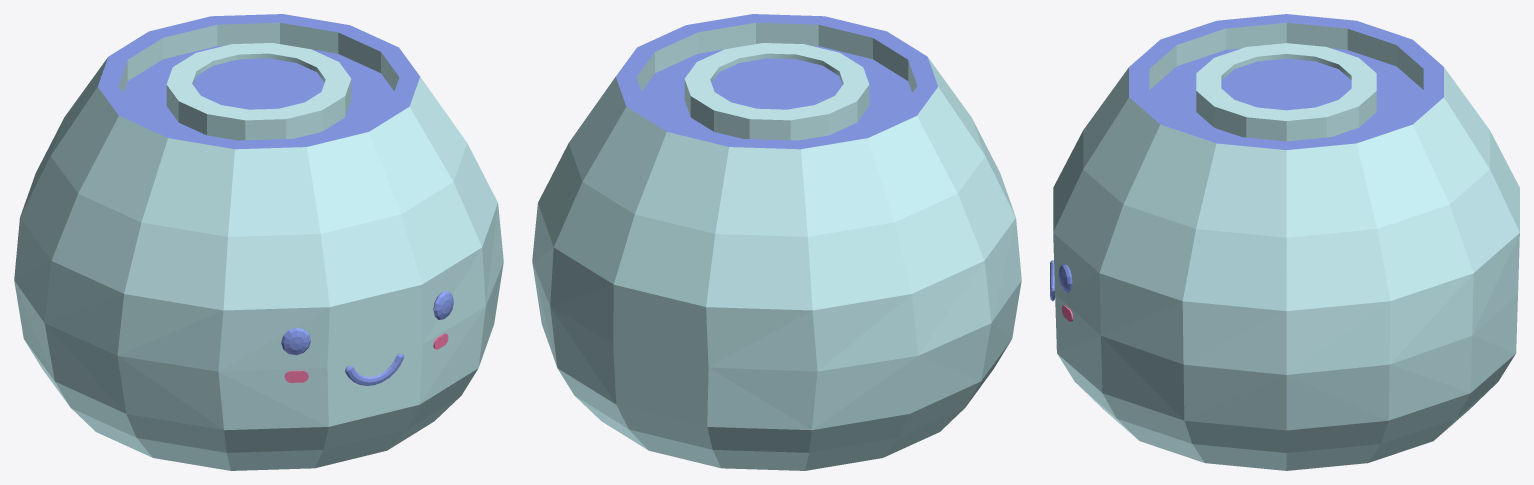
File: CH_Air.glb
3 renders of one model, left to right at view 1: azimuth 30°, elevation 25°; view 2: azimuth 150°, elevation 25°; view 3: azimuth 270°, elevation 25°, orthographic.
Visible parts, largest first — view 1: CH_Air; view 2: CH_Air; view 3: CH_Air.
Boxes of the visible parts, left/top/right/bottom form: CH_Air: left=14, top=14, right=503, bottom=470; CH_Air: left=532, top=14, right=1021, bottom=470; CH_Air: left=1050, top=14, right=1519, bottom=470.
Size of the model in its own units: 30.56 by 21.15 by 29.1.
Materials: 1 (1 with a texture image).
